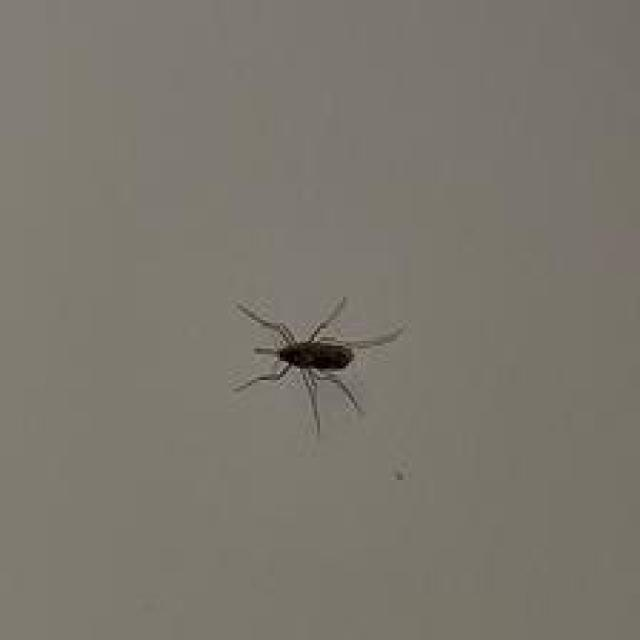Culex: (230, 296, 407, 438)
